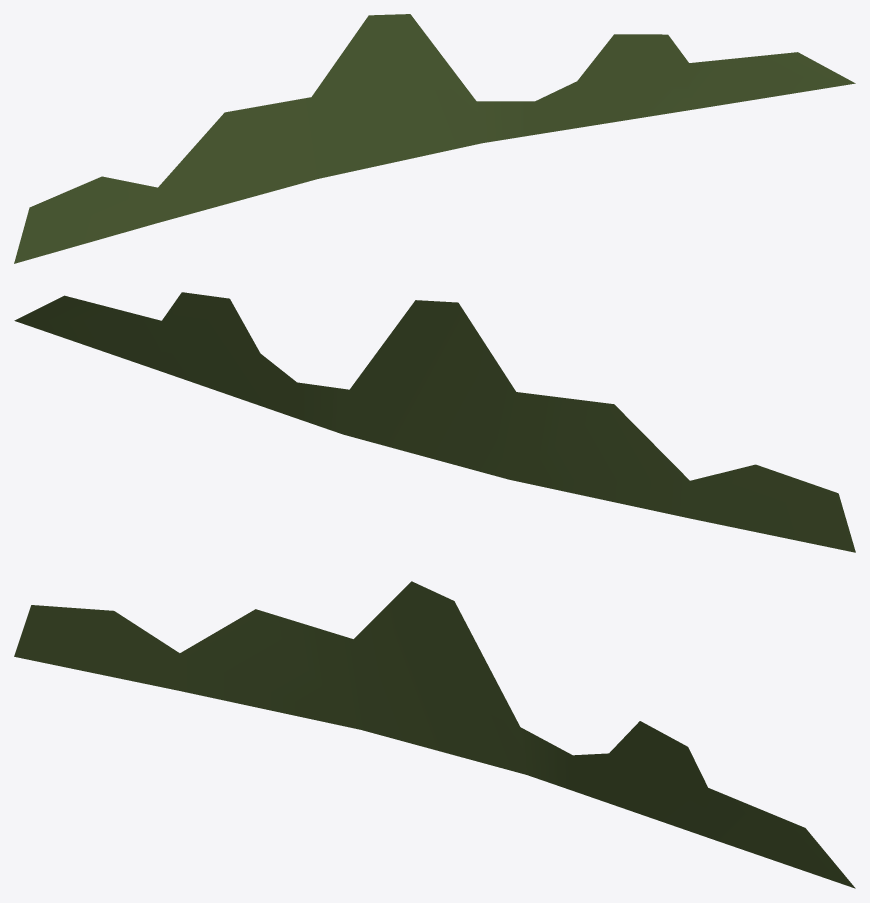
File: SM_Env_Background_Island_02.glb
3 views of the same model, one above another, from view 1: azimuth 30°, elevation 25°; view 2: azimuth 150°, elevation 25°; view 3: azimuth 330°, elevation 25° (orthographic). The views are drawn at different scales.
Parts seen in each view (by area): view 1: node_id4; view 2: node_id4; view 3: node_id4.
Boxes of the visible parts, box(x1,y1,x2,y2) form: node_id4: box(14, 14, 855, 263); node_id4: box(14, 292, 855, 552); node_id4: box(14, 581, 855, 888).
Size of the model in its own units: 0.512 by 0.0917 by 0.0399.
1 material, 1 textured.
